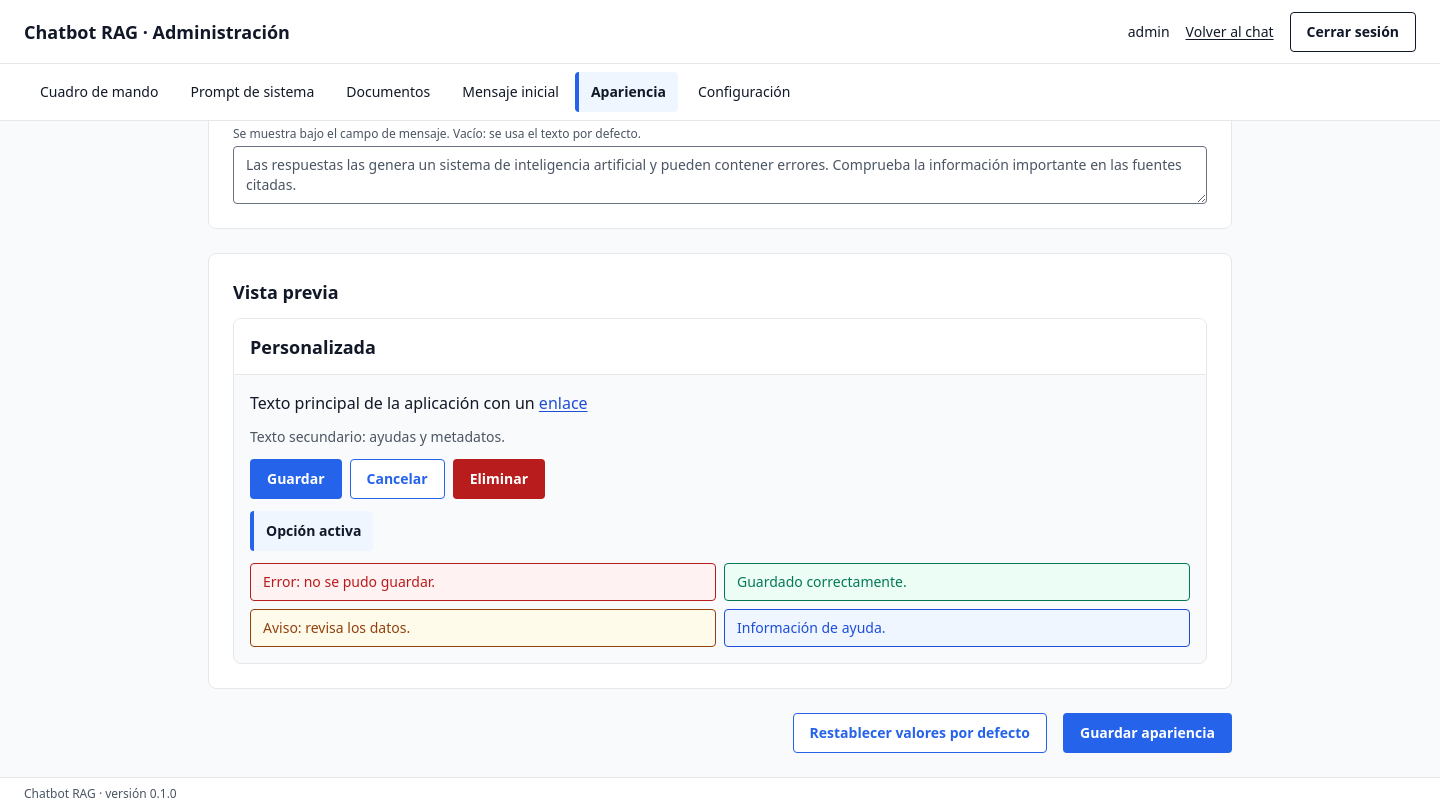
AppearancePage › restablece los valores por defecto tras confirmar
(page scrolled)
Click the button "Restablecer valores por defecto".
click(920, 733)  # box [792,713,1047,753]
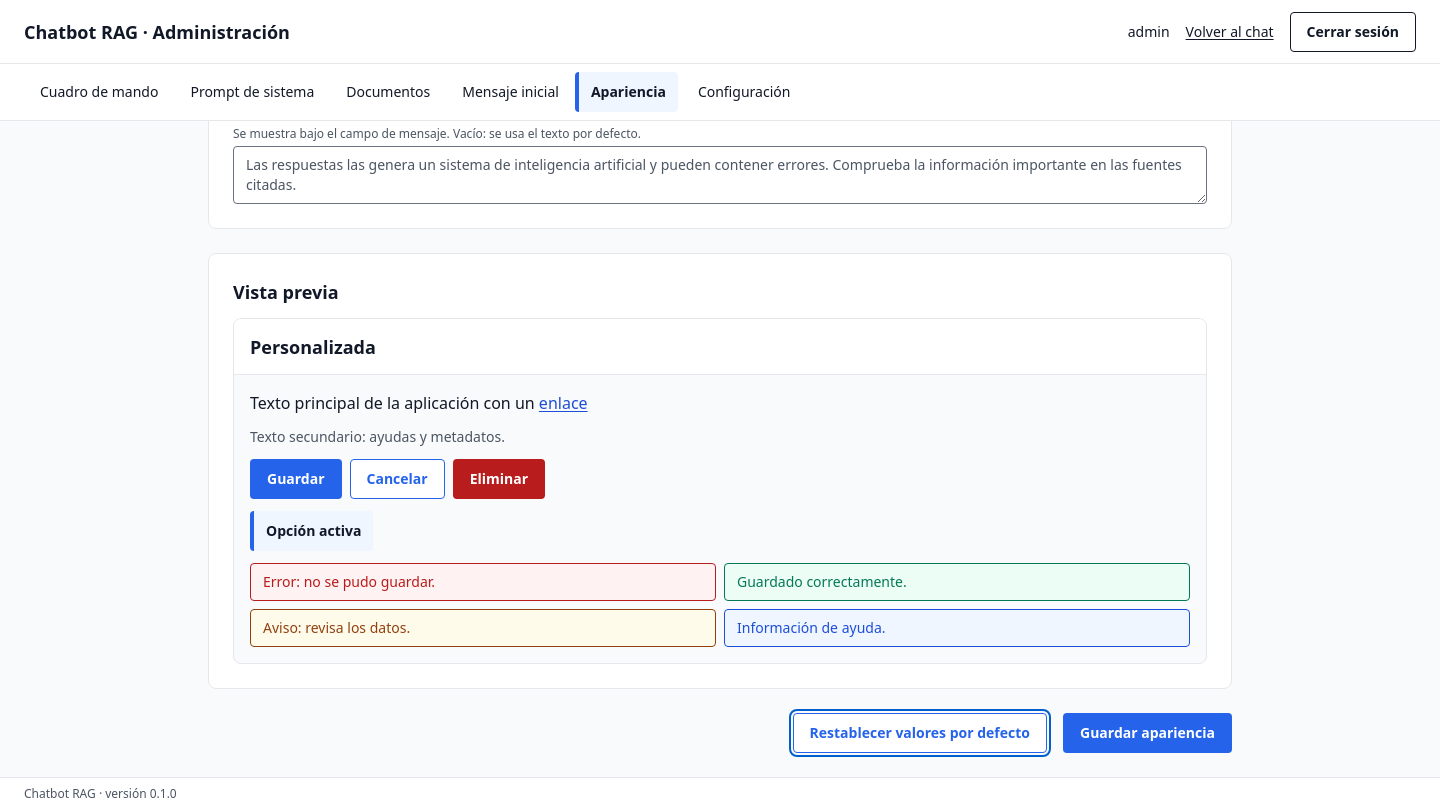
Click the button "Restablecer valores por defecto".
click(920, 733)  # box [792,713,1047,753]
(page scrolled)
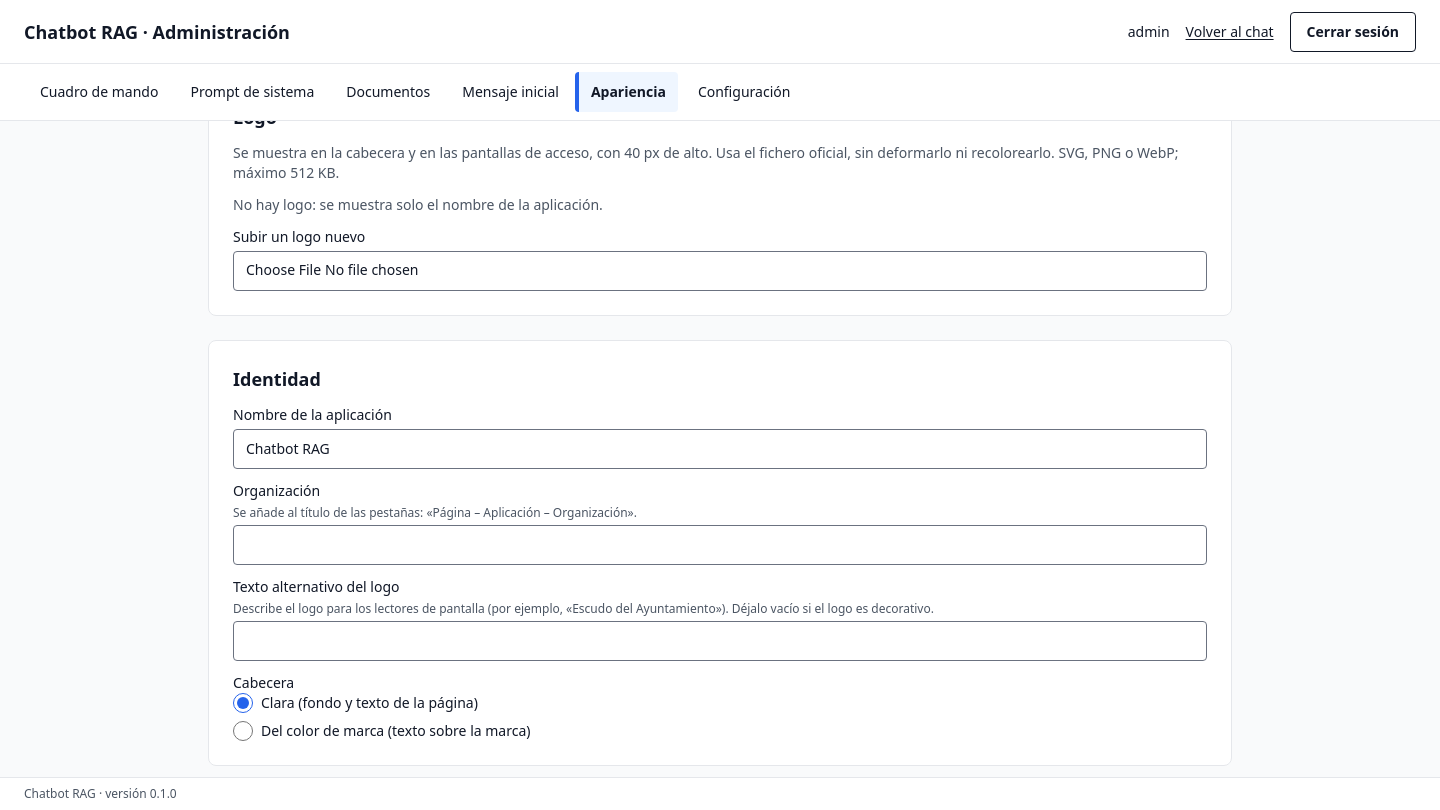
Expected: the field labelled "Nombre de la aplicación" holds "Chatbot RAG", [233,429,1207,469]
